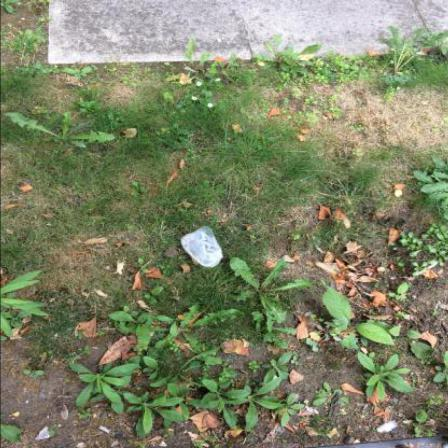Plastic bag - wrapper: (181, 227, 223, 269)
